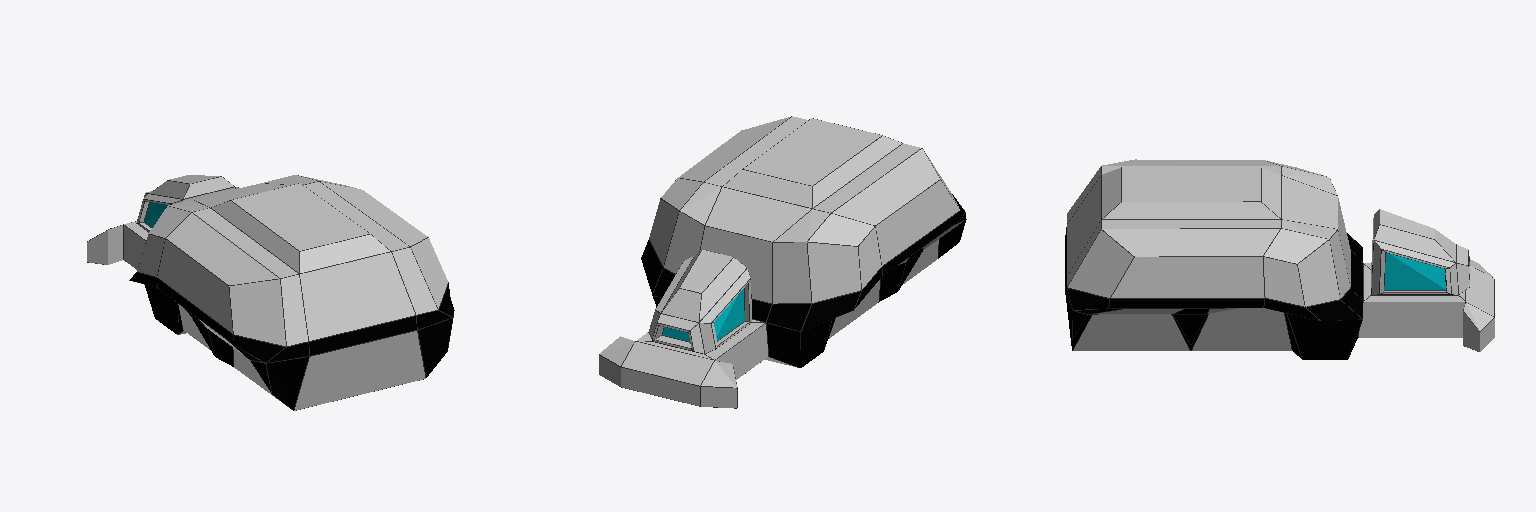
File: truck_1_1.obj
3 renders of one model, left to right at view 1: azimuth 30°, elevation 25°; view 2: azimuth 150°, elevation 25°; view 3: azimuth 270°, elevation 25°, orthographic.
Visible parts, largest first — view 1: Cube; view 2: Cube; view 3: Cube.
Boxes of the visible parts, box(x1,y1,x2,y2) form: Cube: box(87, 175, 454, 410); Cube: box(599, 116, 966, 408); Cube: box(1065, 159, 1494, 359).
Size of the model in its own units: 10.14 by 6.43 by 17.53.